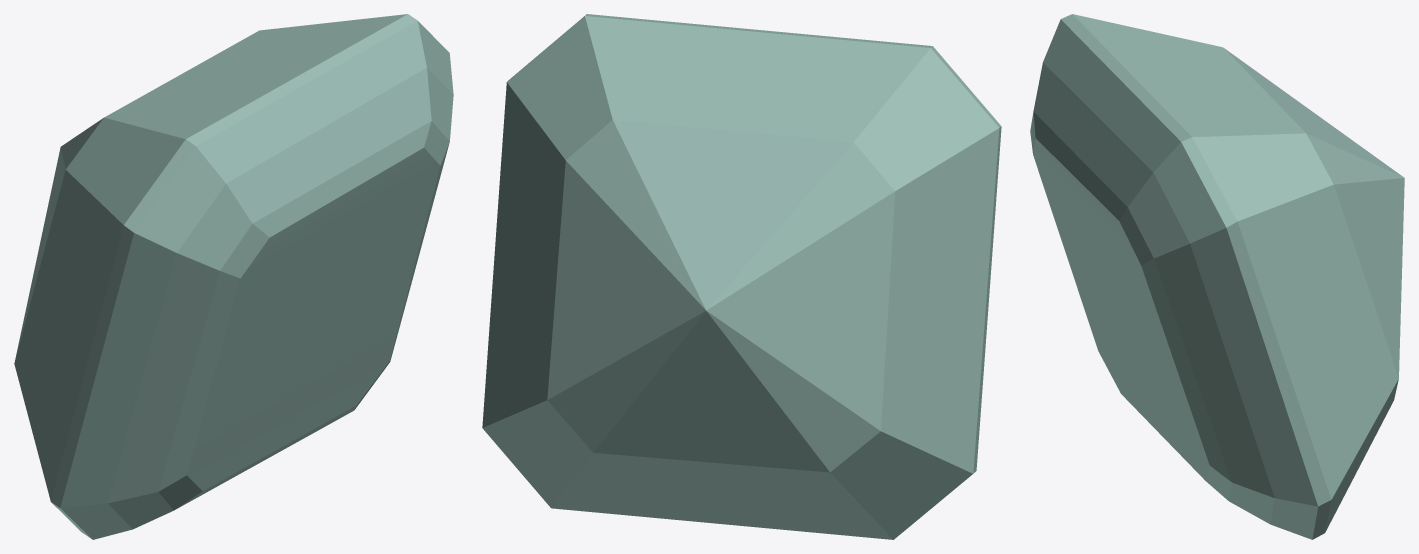
File: BR2_8shapes_Square_Classic_Stone.001 3.glb
The picture shows the model from 3 angles, left to right: view 1: azimuth 30°, elevation 25°; view 2: azimuth 150°, elevation 25°; view 3: azimuth 270°, elevation 25°; orthographic projection. The views are drawn at different scales.
Visible parts, largest first — view 1: BR2_8shapes_Square_Classic_Stone.001; view 2: BR2_8shapes_Square_Classic_Stone.001; view 3: BR2_8shapes_Square_Classic_Stone.001.
Part boxes in pixels (x1,y1,x2,y2): BR2_8shapes_Square_Classic_Stone.001: (14, 14, 453, 539); BR2_8shapes_Square_Classic_Stone.001: (482, 14, 1001, 539); BR2_8shapes_Square_Classic_Stone.001: (1030, 14, 1404, 539).
Bounding box in the file's own units: 0.3874 × 0.3835 × 0.3062.
